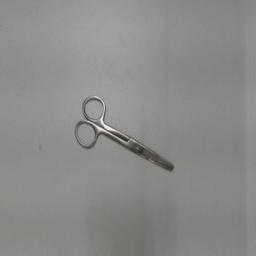Dressing Scissors: (69, 86, 179, 178)
